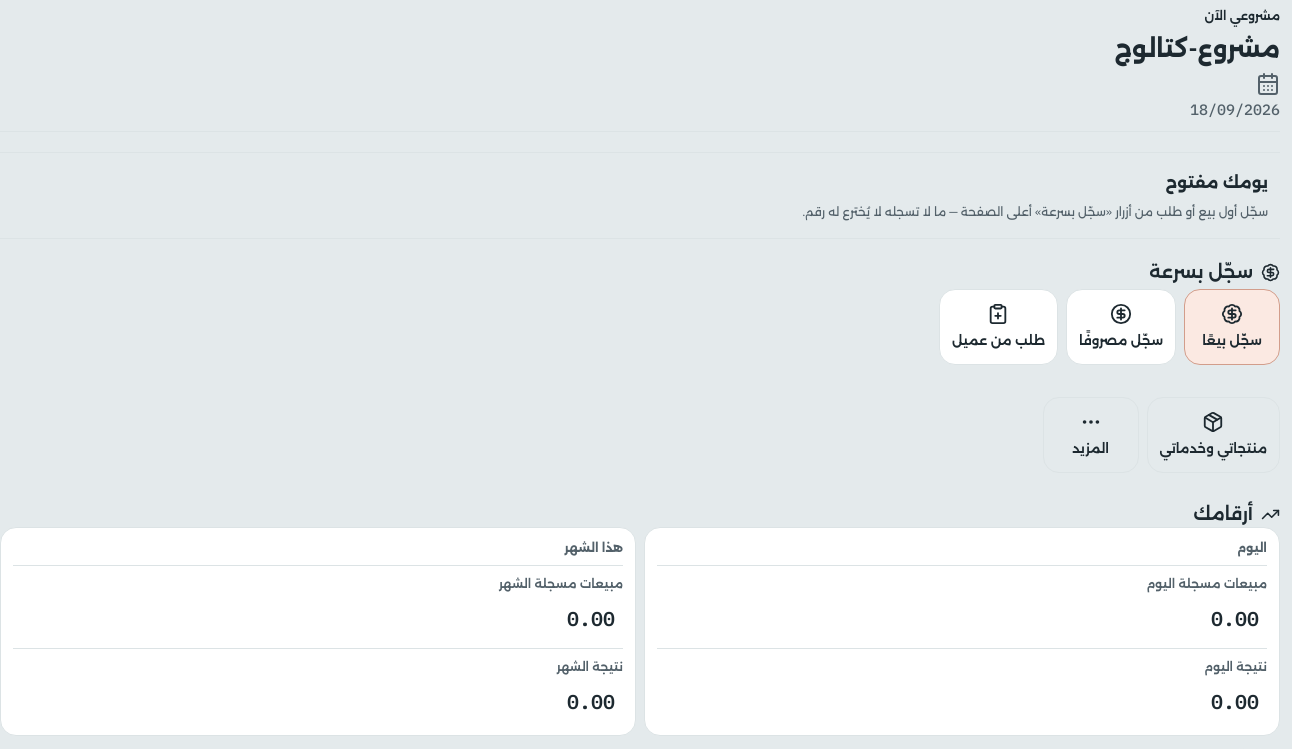
Test: Wave 4.3 — P-4.3-2 + Z1: My Project Now daily decision surface › منتجاتي وخدماتي and المزيد live in the lighter secondary cluster, outside the fixed actions
Expected: the element with test id "home-quick-actions" does not show "منتجاتي وخدماتي"
Expected: the element with test id "home-quick-actions" does not show "المزيد"
Click the button "المزيد" at (1090, 435), box [1042,397,1138,473]
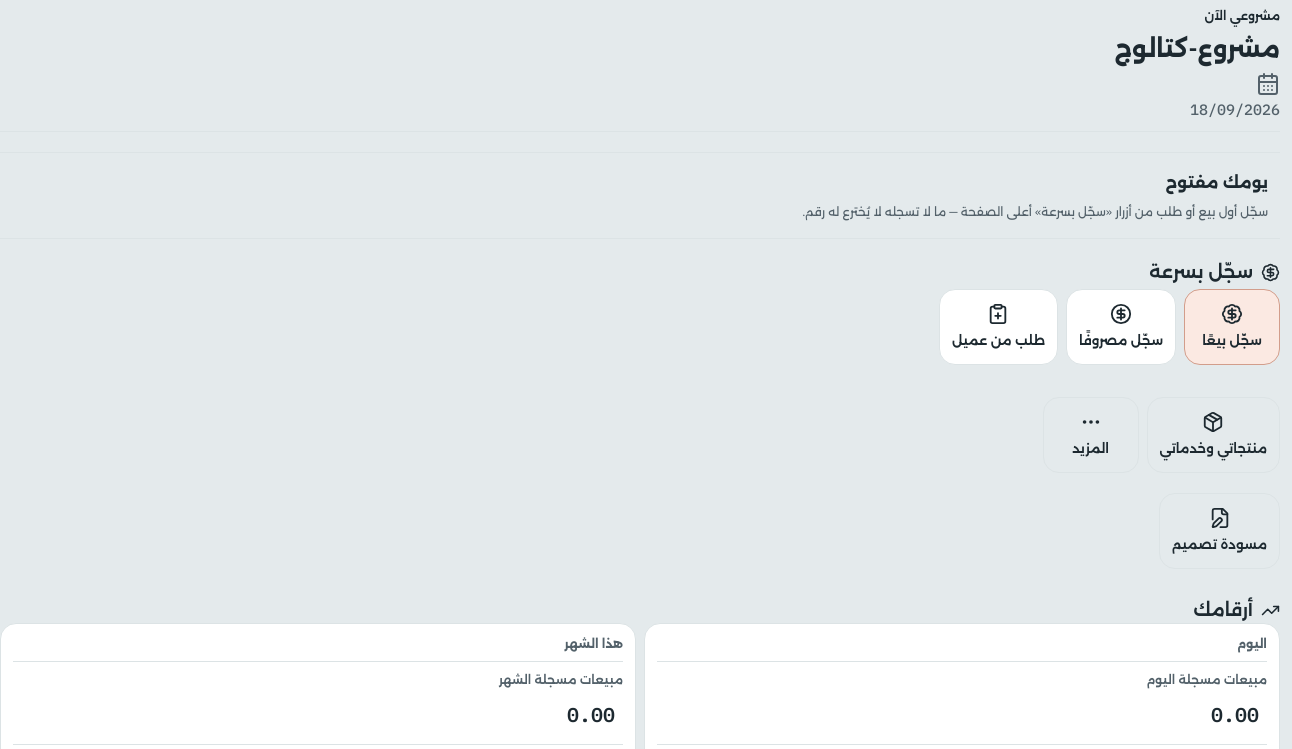
Expected: the element with test id "home-quick-actions-more" reads "مسودة تصميم", [1159,493,1280,569]
